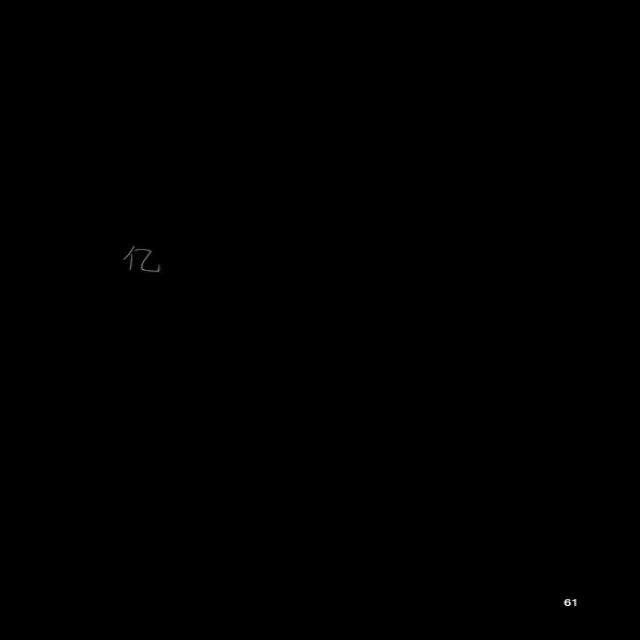100000 -a hundred thousand-: (120, 243, 164, 274)
